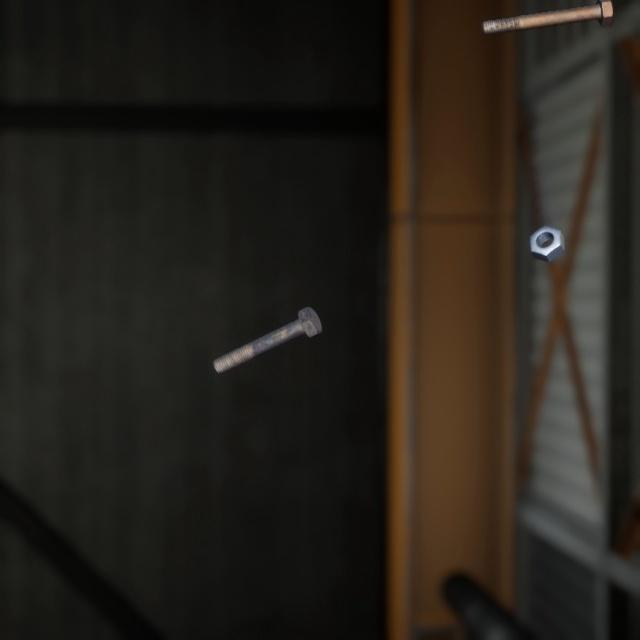bolt: (208, 283, 326, 359), (476, 0, 617, 31)
nut: (525, 205, 568, 250)
